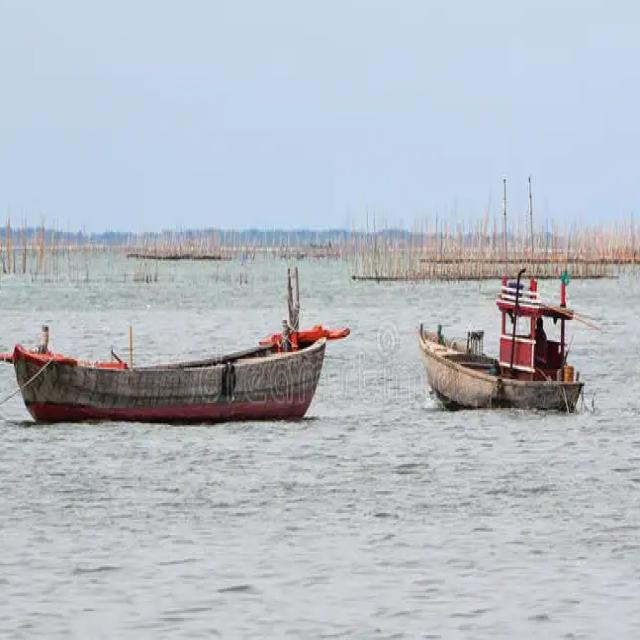fishing boat: (15, 271, 338, 423), (410, 254, 587, 414)
